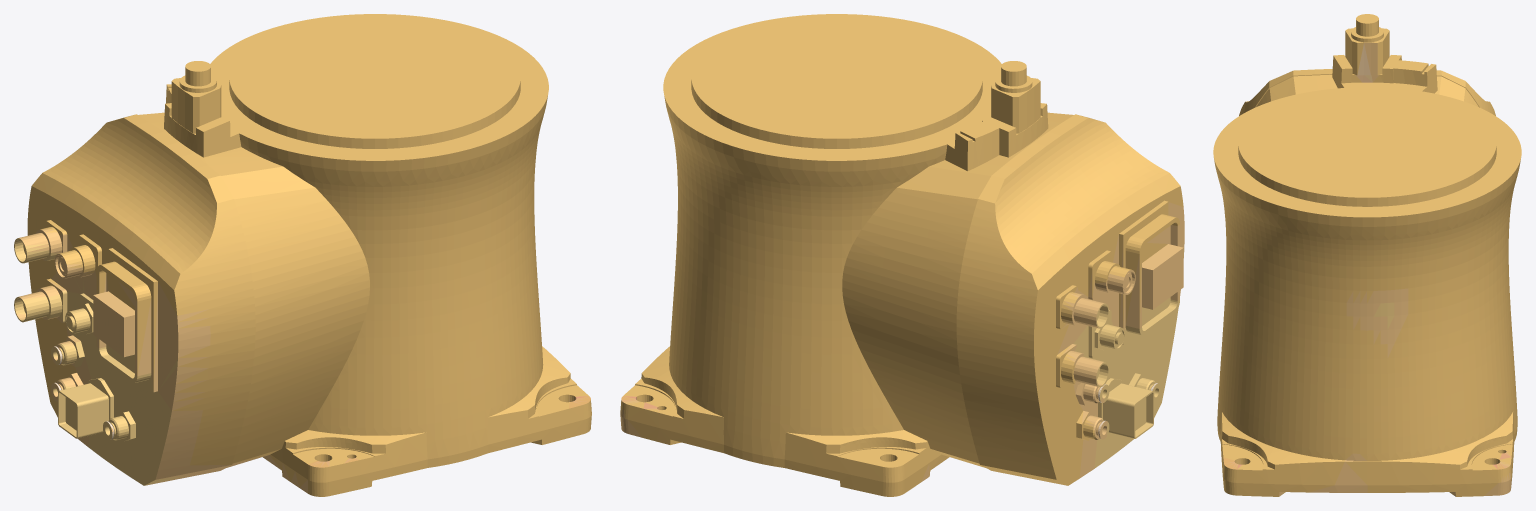
Rendered from KukaKR4Link0.dae.
The picture shows the model from 3 angles, left to right: view 1: azimuth 30°, elevation 25°; view 2: azimuth 150°, elevation 25°; view 3: azimuth 270°, elevation 25°; orthographic projection. The views are drawn at different scales.
Visible parts, largest first — view 1: KR4Link0; view 2: KR4Link0; view 3: KR4Link0.
Boxes of the visible parts, x1,y1,x2,y2 form: KR4Link0: [14, 14, 591, 496]; KR4Link0: [620, 14, 1184, 496]; KR4Link0: [1213, 14, 1521, 496].
Bounding box in the file's own units: 0.1642 × 0.1074 × 0.1304.
